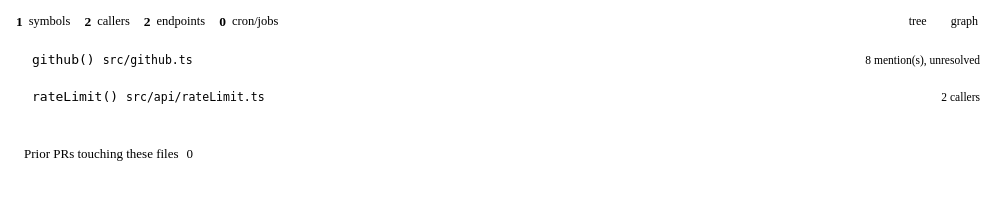
it: a caller count says only what the index can support › counts the mentions when the name is used but unresolvable
The image size is (1005, 216).
Expected: the text "8 mention(s), unresolved" is shown, 865,54 -> 980,66
Click the button "github() src/github.ts 8 mention(s), unresolved": (55, 60) 16,46 -> 988,73
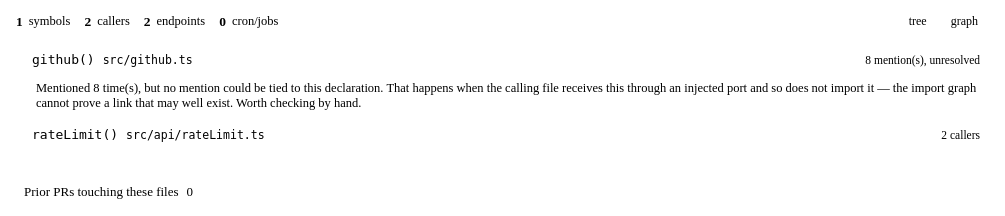
Expected: the text "no mention could be tied to this declaration" is shown, 36,81 -> 976,110
